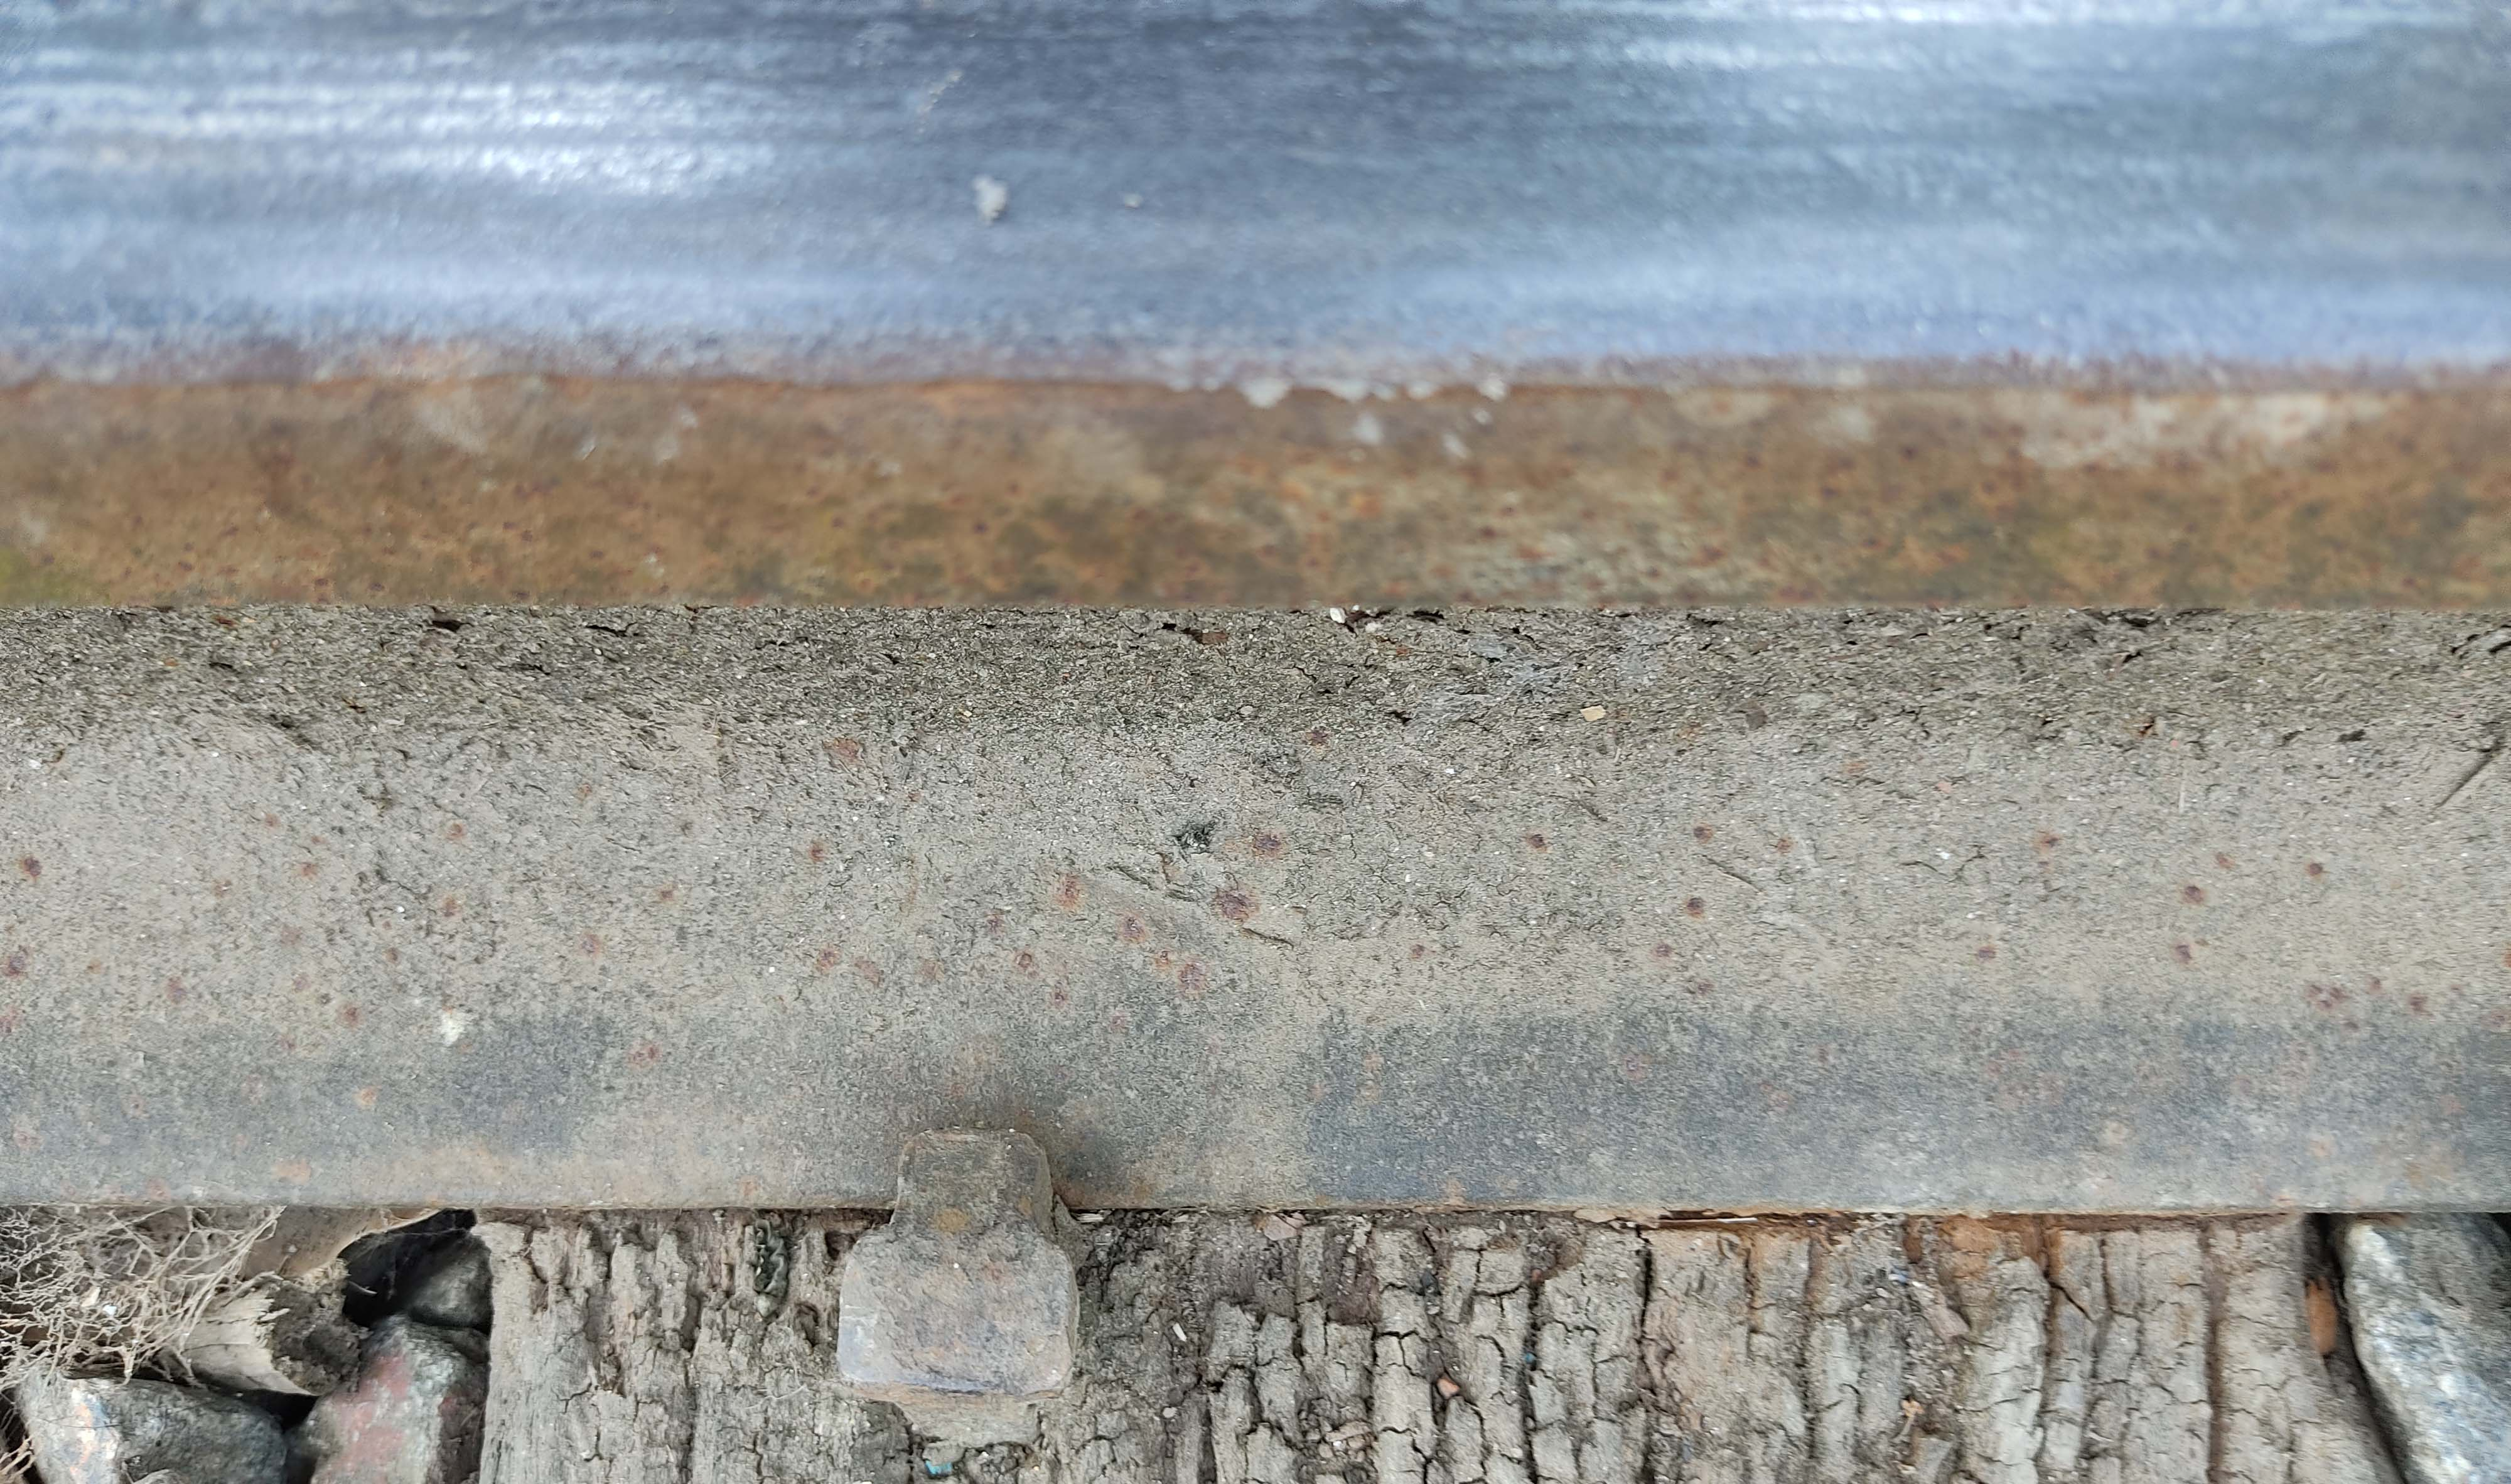error1: (798, 998, 1118, 1433)
